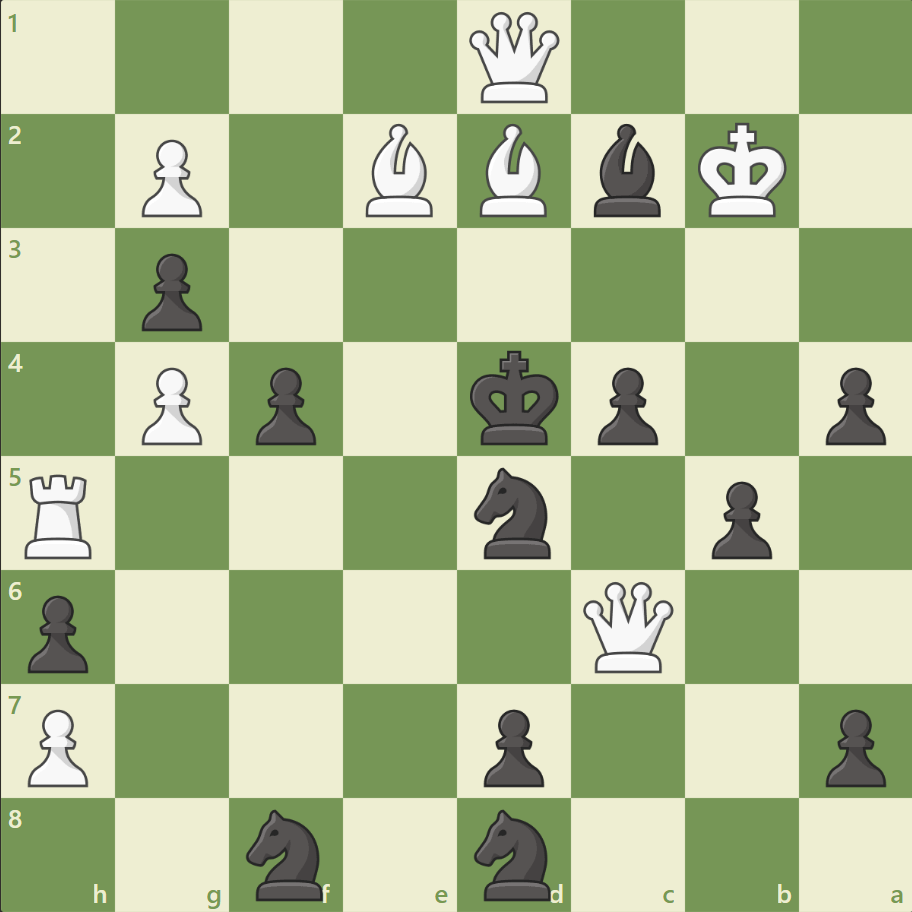B: (471, 120, 555, 222), (358, 120, 442, 222)
K: (692, 117, 792, 225)
P: (20, 700, 95, 791), (133, 359, 208, 450), (133, 132, 208, 223)
Q: (578, 576, 677, 676), (464, 9, 563, 108)
R: (19, 466, 102, 563)
b: (585, 120, 669, 222)
k: (465, 344, 565, 452)
n: (465, 461, 562, 564), (465, 802, 562, 904), (238, 802, 335, 904)
p: (474, 700, 549, 791), (20, 586, 95, 677), (701, 473, 776, 564), (247, 359, 322, 450), (133, 246, 208, 337), (815, 700, 889, 791), (815, 359, 889, 450), (588, 359, 662, 450)
